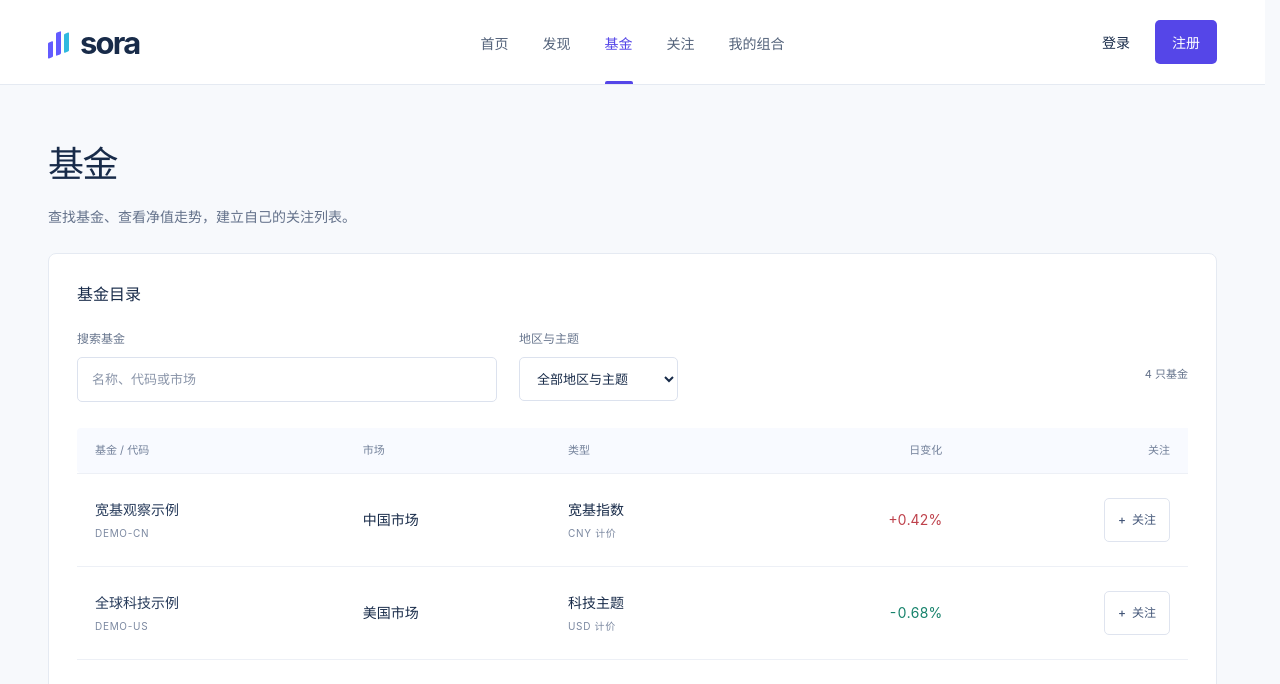
Test case: M2 keyboard and accessible flows › announces filtered counts while preserving keyboard input focus
Type "DEMO-KR" into the search field labelled "搜索基金".
click(287, 380); type("DEMO-KR")  # box [77,357,497,402]
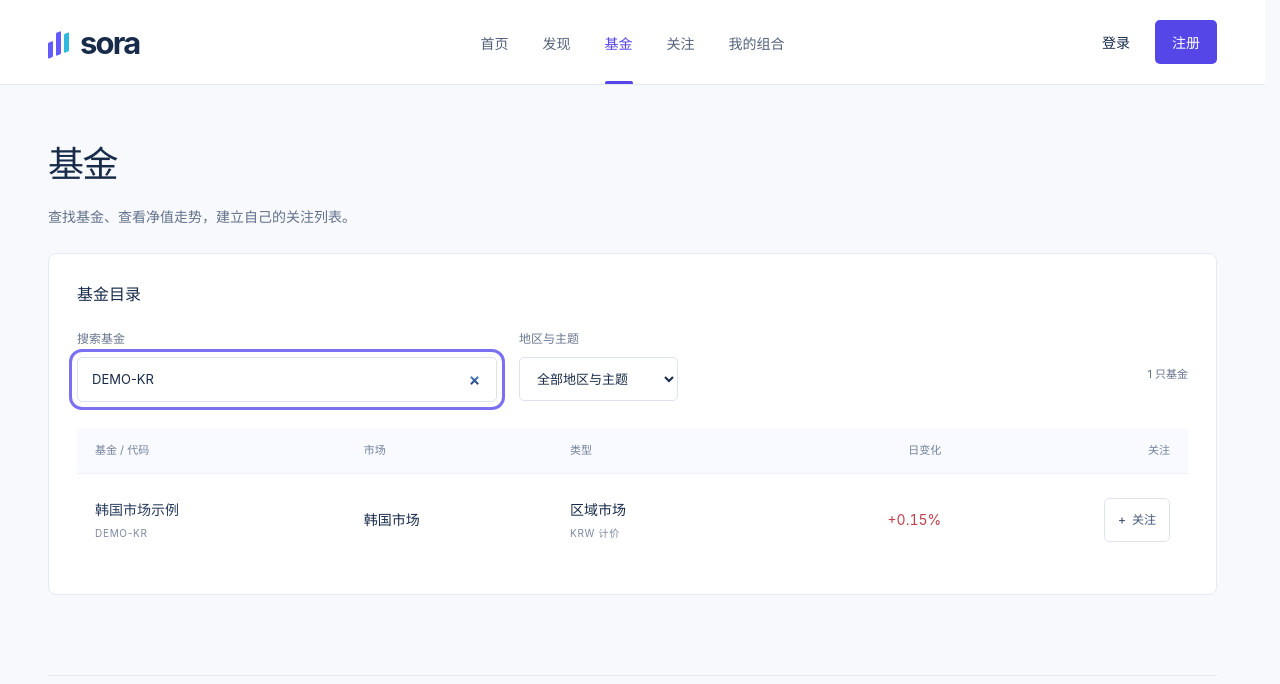
Now the message reads "1 只基金", box [1147,366,1188,382]
Replace the text in the search field labelled "搜索基金" with "没有结果" at (287, 380), box [77,357,497,402]
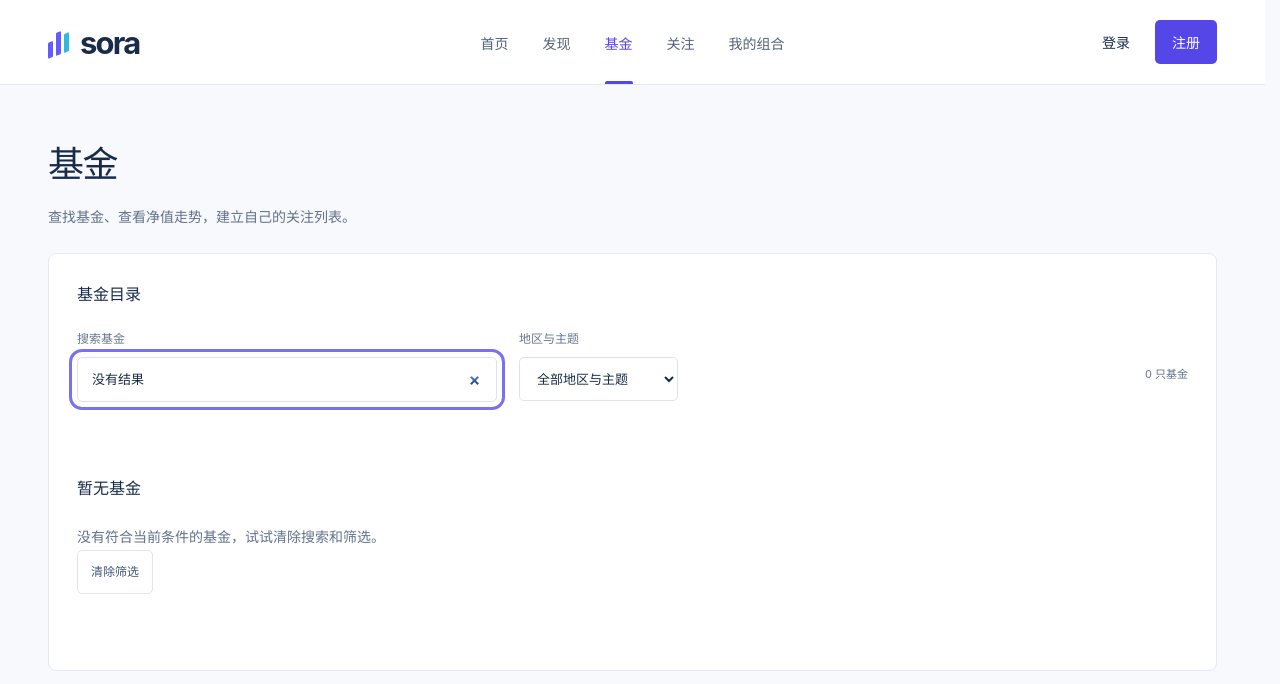
Now the message reads "0 只基金", box [1145,366,1188,382]
Now the heading "暂无基金" is shown, box [77,478,141,498]
